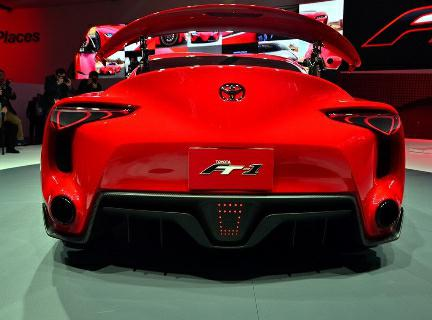丰田-FT-1: (36, 6, 417, 263)
